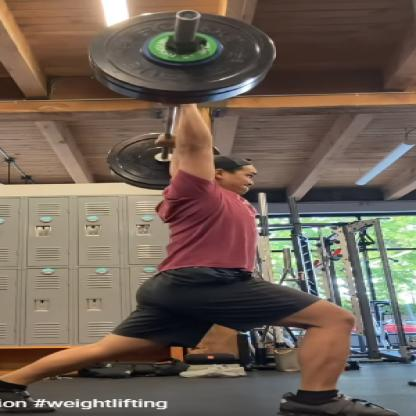Barbell: (90, 7, 288, 104)
